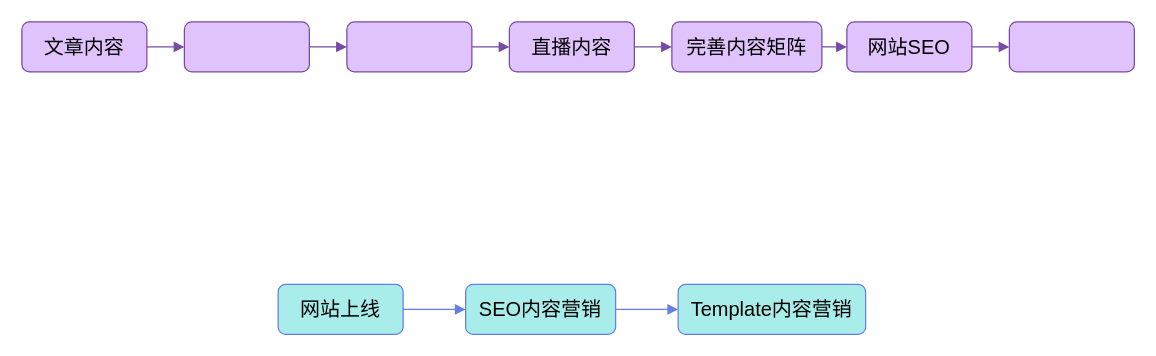
Some shapes in this 1156 by 356 pixel diagram are drawn without their labels. The centre of each missing label's shape, as x and y in pixels:
图文内容: [246,46]
广告推广: [1071,46]
视频内容: [409,46]
